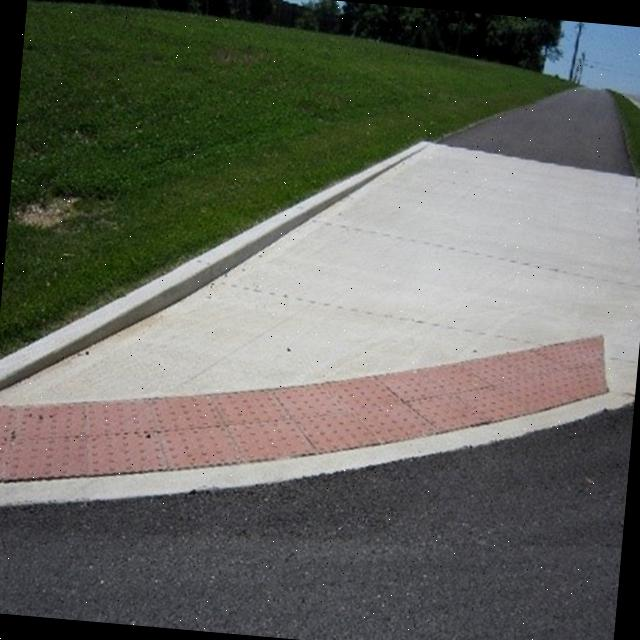curb: (0, 141, 433, 388), (624, 94, 640, 109)
